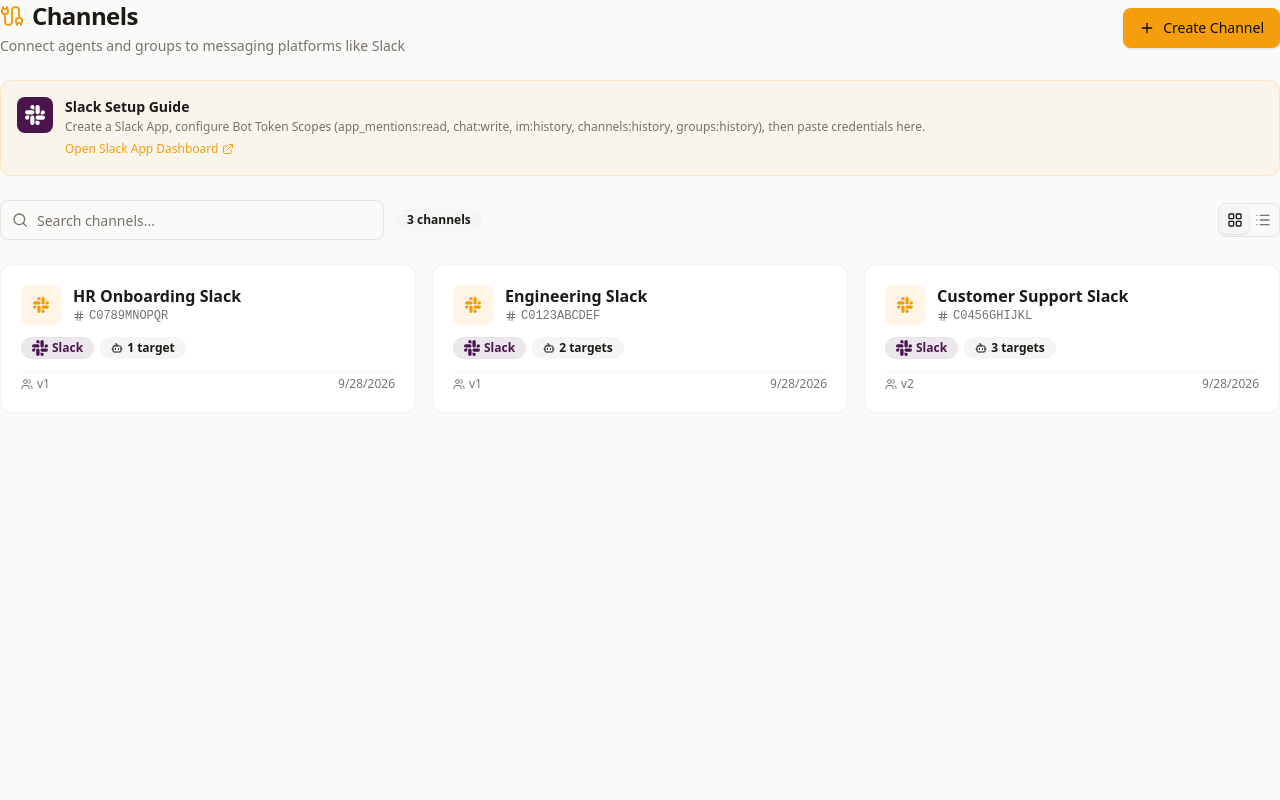
Test: ChannelsPage › opens create channel dialog on button click
Click the button with test id "create-channel-btn" at point(1202, 28), box x1=1123 y1=8 x2=1279 y2=48
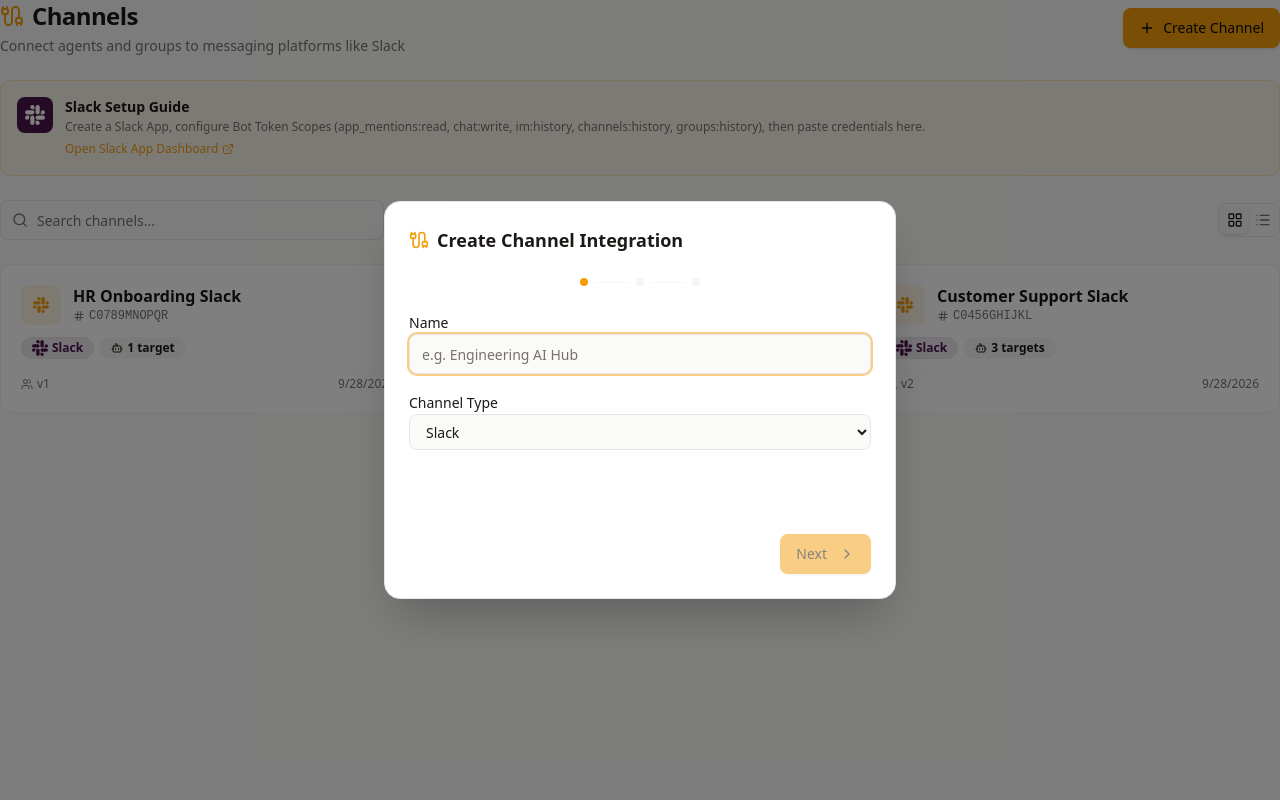
Result: the field with test id "create-channel-name" is shown at x1=409 y1=334 x2=871 y2=374
